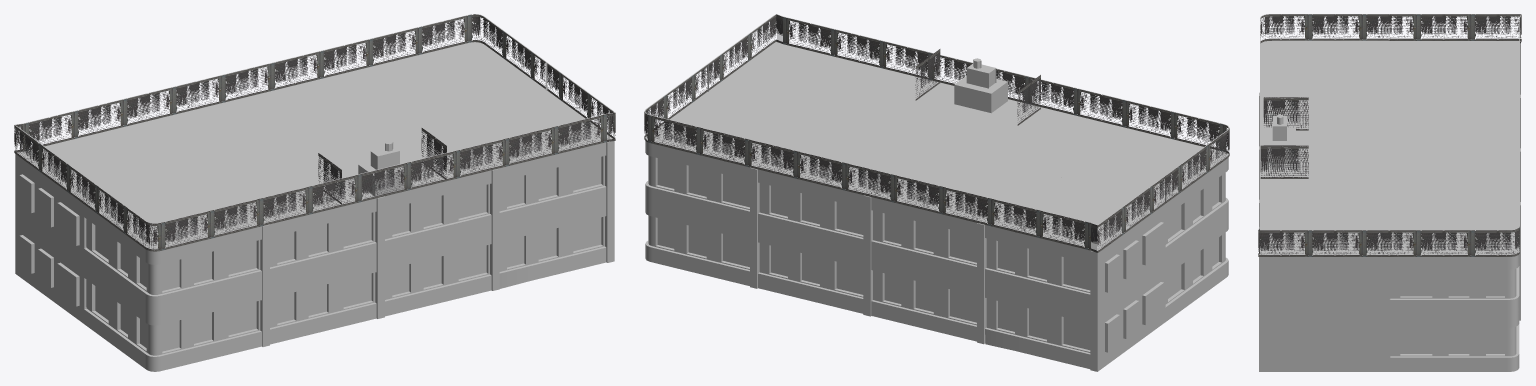
File: yk_uudetrakennukset_jp2.fbx
3 renders of one model, left to right at view 1: azimuth 30°, elevation 25°; view 2: azimuth 150°, elevation 25°; view 3: azimuth 270°, elevation 25°, orthographic. The views are drawn at different scales.
Parts seen in each view (by area): view 1: Cube.003; view 2: Cube.003; view 3: Cube.003.
Part boxes in pixels (x1,y1,x2,y2): Cube.003: (14, 14, 615, 371); Cube.003: (644, 14, 1229, 371); Cube.003: (1258, 14, 1521, 371).
Bounding box in the file's own units: 892 × 301 × 457.
